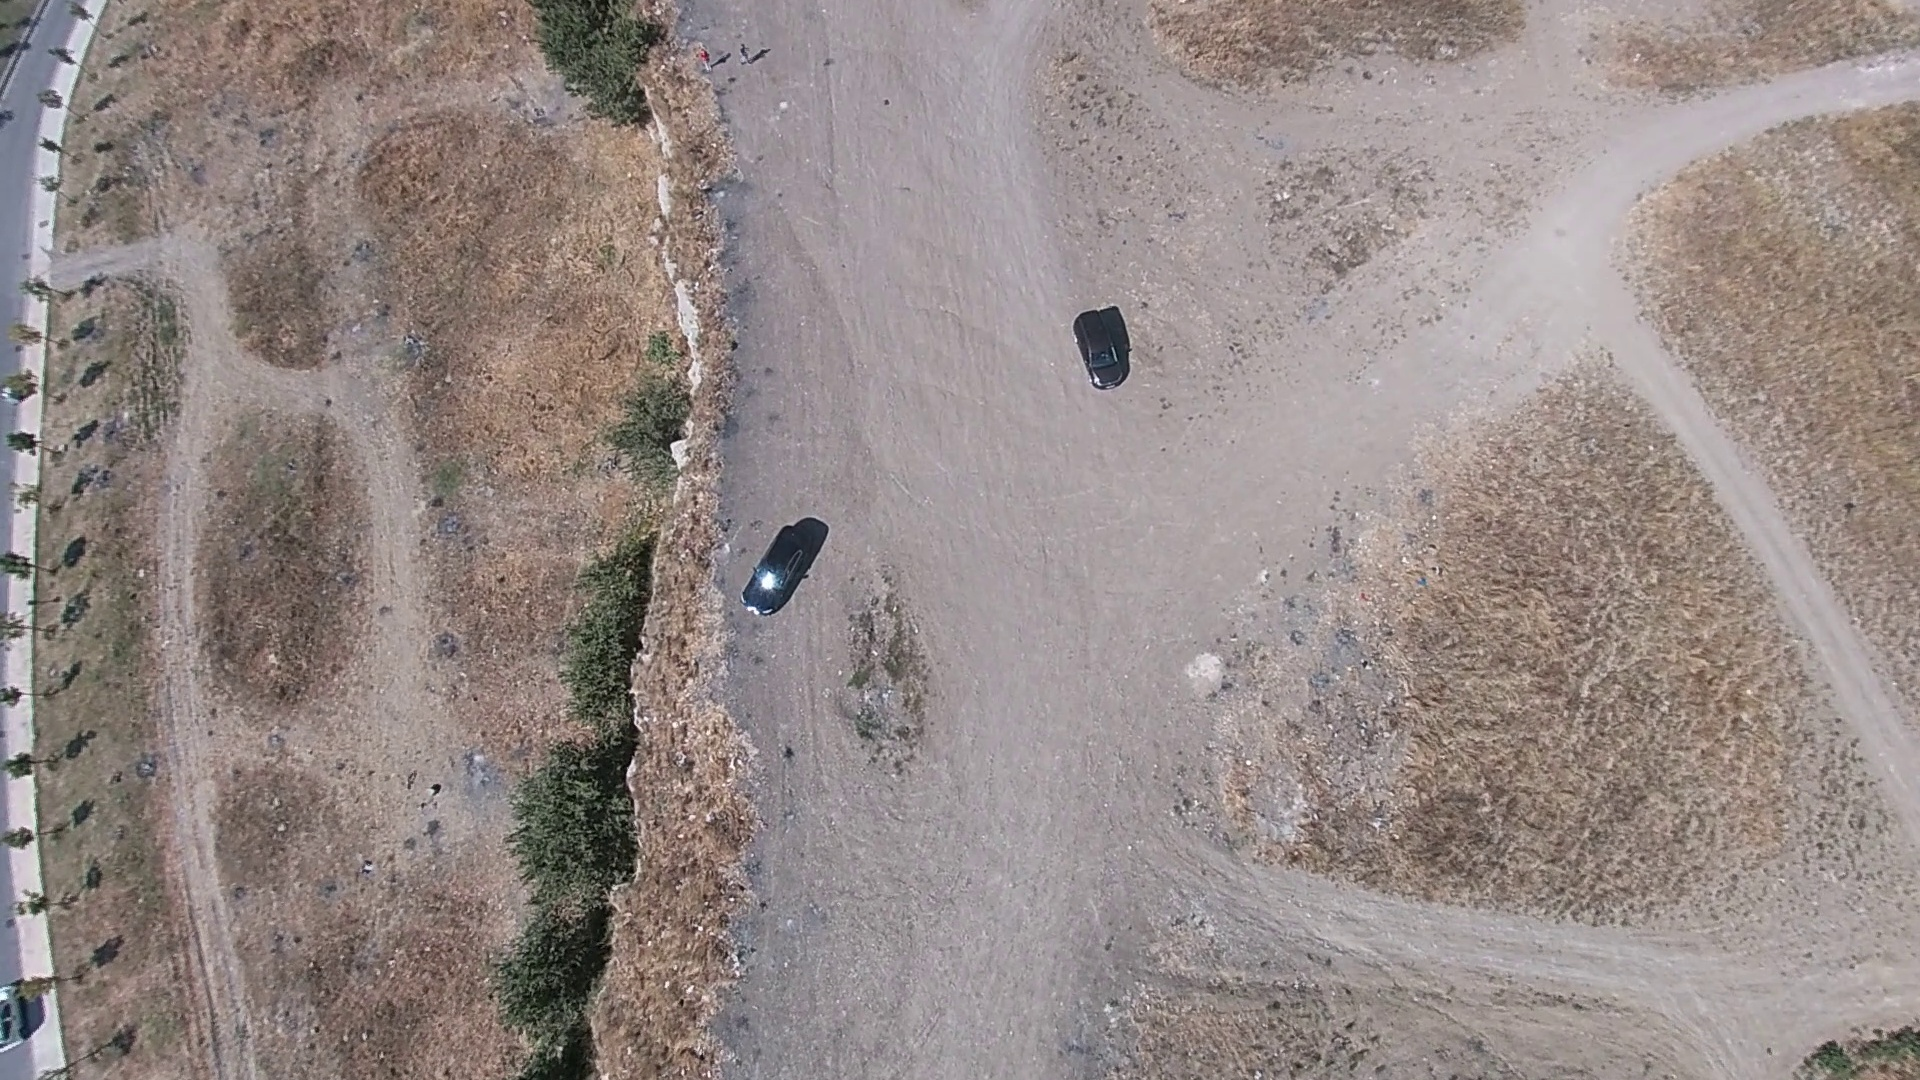arac: (737, 518, 823, 614), (1064, 303, 1130, 384)
insan: (731, 44, 759, 70), (701, 40, 721, 75)
